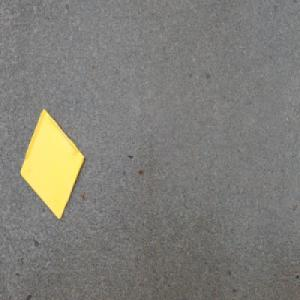PlasticPart: (18, 107, 85, 222)
